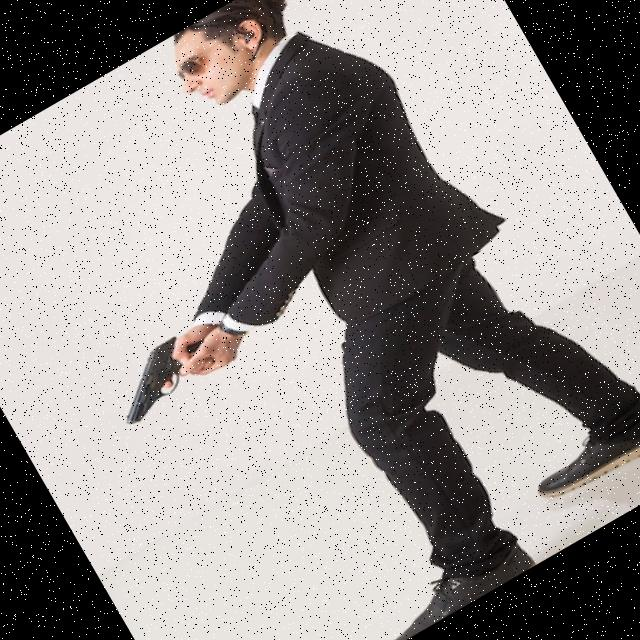Person: (33, 0, 640, 640)
